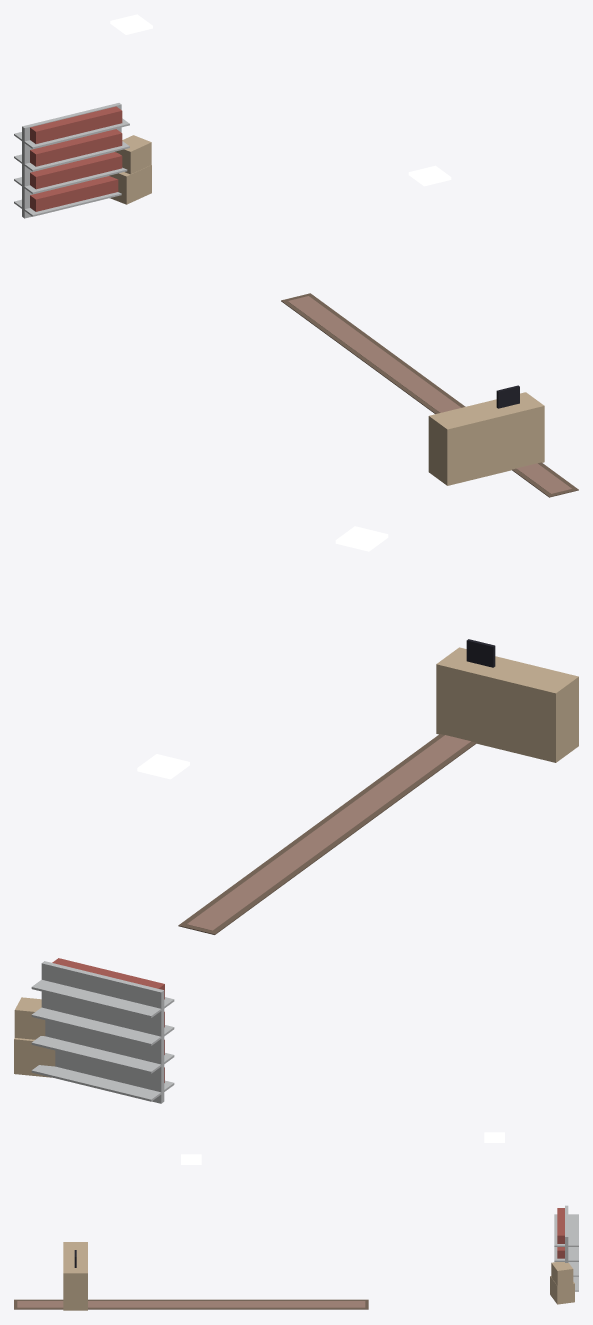
Rendered from fine-s0.glb.
3 renders of one model, top to bottom at view 1: azimuth 30°, elevation 25°; view 2: azimuth 150°, elevation 25°; view 3: azimuth 270°, elevation 25°, orthographic. The views are drawn at different scales.
Visible parts, largest first — view 1: shelving.000, shop-counter.000, soft-s0, cardboard-box.000; view 2: shelving.000, shop-counter.000, soft-s0, cardboard-box.000, ceiling-lamp.000, ceiling-lamp.001; view 3: soft-s0, shop-counter.000, shelving.000, cardboard-box.000.
Part boxes in pixels (x1=…): shelving.000: x1=14, y1=103, x2=129, y2=218; shop-counter.000: x1=428, y1=385, x2=544, y2=485; soft-s0: x1=281, y1=293, x2=578, y2=497; cardboard-box.000: x1=109, y1=135, x2=151, y2=204; shelving.000: x1=31, y1=958, x2=174, y2=1103; shop-counter.000: x1=436, y1=639, x2=578, y2=762; soft-s0: x1=178, y1=734, x2=476, y2=934; cardboard-box.000: x1=14, y1=997, x2=55, y2=1077; ceiling-lamp.000: x1=335, y1=526, x2=388, y2=551; ceiling-lamp.001: x1=137, y1=754, x2=189, y2=779; soft-s0: x1=14, y1=1299, x2=368, y2=1309; shop-counter.000: x1=63, y1=1242, x2=87, y2=1310; shelving.000: x1=554, y1=1205, x2=578, y2=1291; cardboard-box.000: x1=550, y1=1262, x2=574, y2=1304.
Size of the model in its own units: 2.6 by 3.92 by 13.73.
